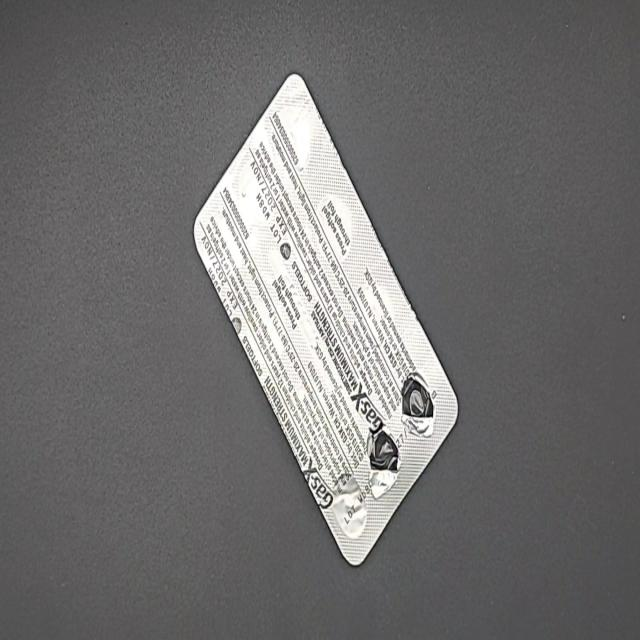defect: (364, 422, 403, 503), (398, 368, 436, 440)
